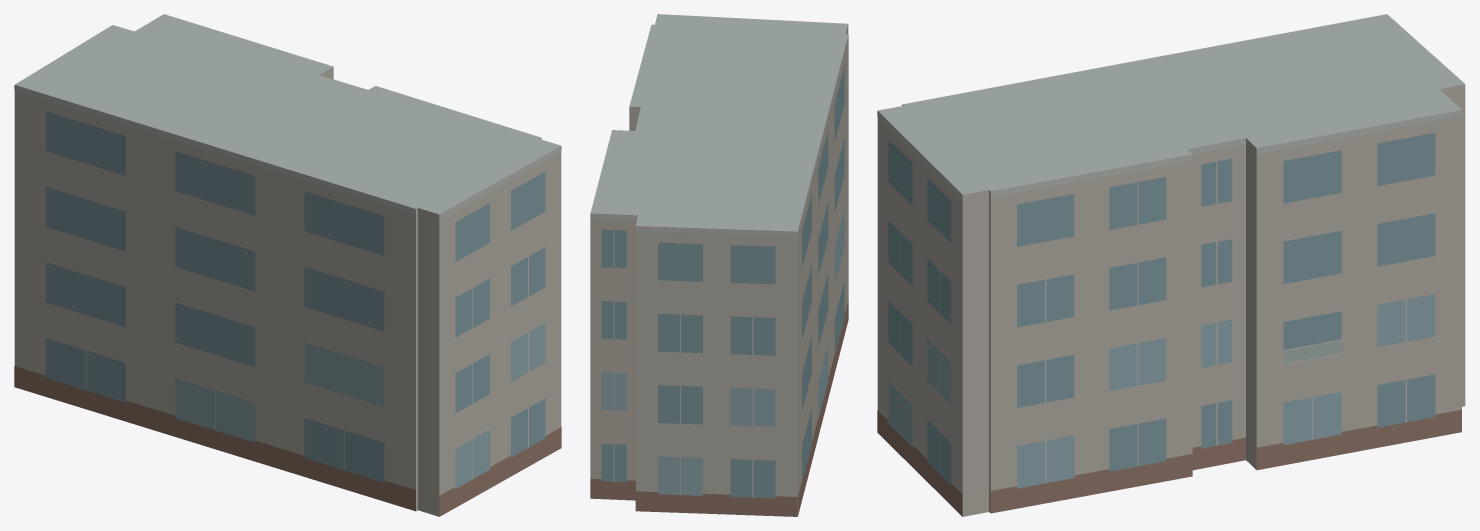
File: survey-upis-32742491.glb
The picture shows the model from 3 angles, left to right: view 1: azimuth 30°, elevation 25°; view 2: azimuth 150°, elevation 25°; view 3: azimuth 270°, elevation 25°; orthographic projection. The views are drawn at different scales.
Parts seen in each view (by area): view 1: survey-upis-32742491.tmp; view 2: survey-upis-32742491.tmp; view 3: survey-upis-32742491.tmp.
Boxes of the visible parts, x1=… form: survey-upis-32742491.tmp: x1=14, y1=14, x2=561, y2=516; survey-upis-32742491.tmp: x1=590, y1=14, x2=848, y2=516; survey-upis-32742491.tmp: x1=877, y1=14, x2=1465, y2=516.
Size of the model in its own units: 15.78 by 13.1 by 21.68.
